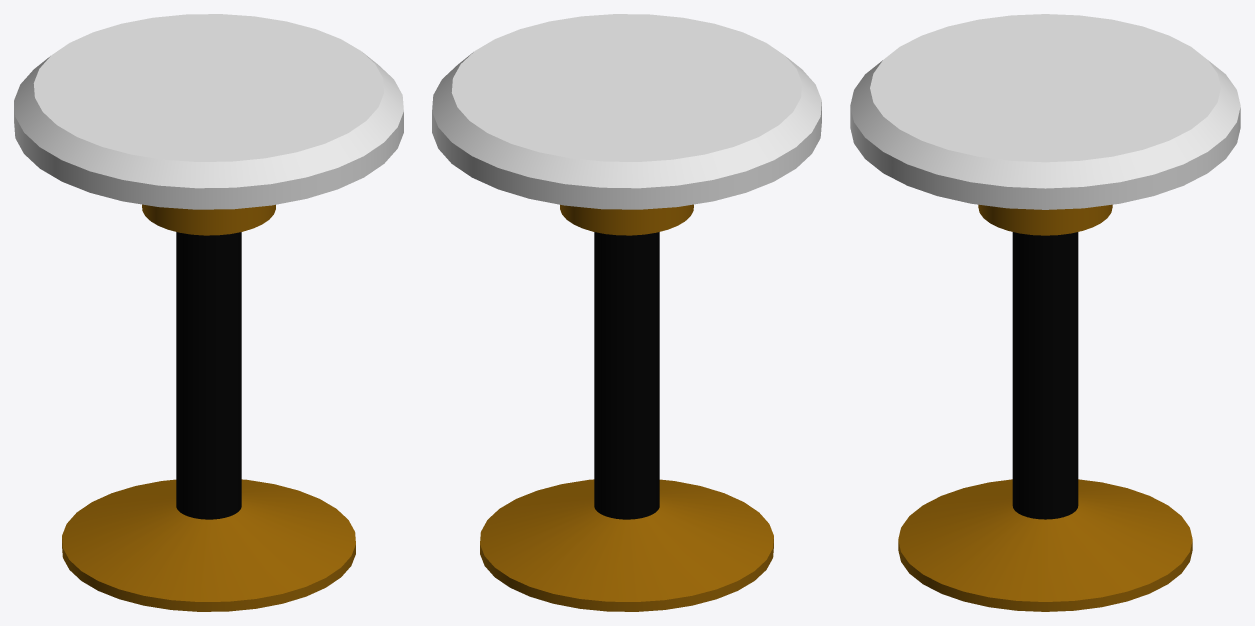
Rendered from barStool.fbx.
3 renders of one model, left to right at view 1: azimuth 30°, elevation 25°; view 2: azimuth 150°, elevation 25°; view 3: azimuth 270°, elevation 25°, orthographic.
Parts seen in each view (by area): view 1: Cylinder.007; view 2: Cylinder.007; view 3: Cylinder.007.
Part boxes in pixels (left/top/right/bottom): Cylinder.007: left=14, top=14, right=403, bottom=611; Cylinder.007: left=432, top=14, right=821, bottom=611; Cylinder.007: left=850, top=14, right=1240, bottom=611.
Bounding box in the file's own units: 200 × 261 × 200.
